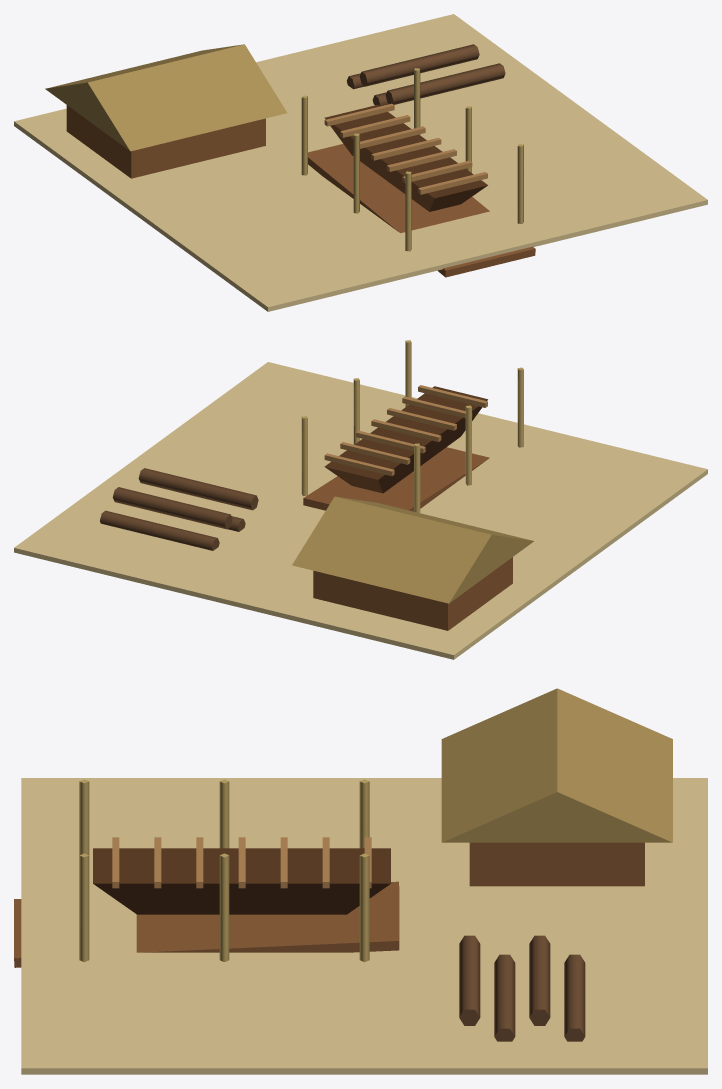
File: building_limbungan.glb
The picture shows the model from 3 angles, top to bottom: view 1: azimuth 30°, elevation 25°; view 2: azimuth 150°, elevation 25°; view 3: azimuth 270°, elevation 25°; orthographic projection. The views are drawn at different scales.
Parts seen in each view (by area): view 1: building_limbungan; view 2: building_limbungan; view 3: building_limbungan.
Boxes of the visible parts, box(x1,y1,x2,y2) form: building_limbungan: box(14, 14, 707, 311); building_limbungan: box(14, 340, 707, 659); building_limbungan: box(14, 688, 707, 1074).
Size of the model in its own units: 1.96 by 0.3775 by 1.98.
